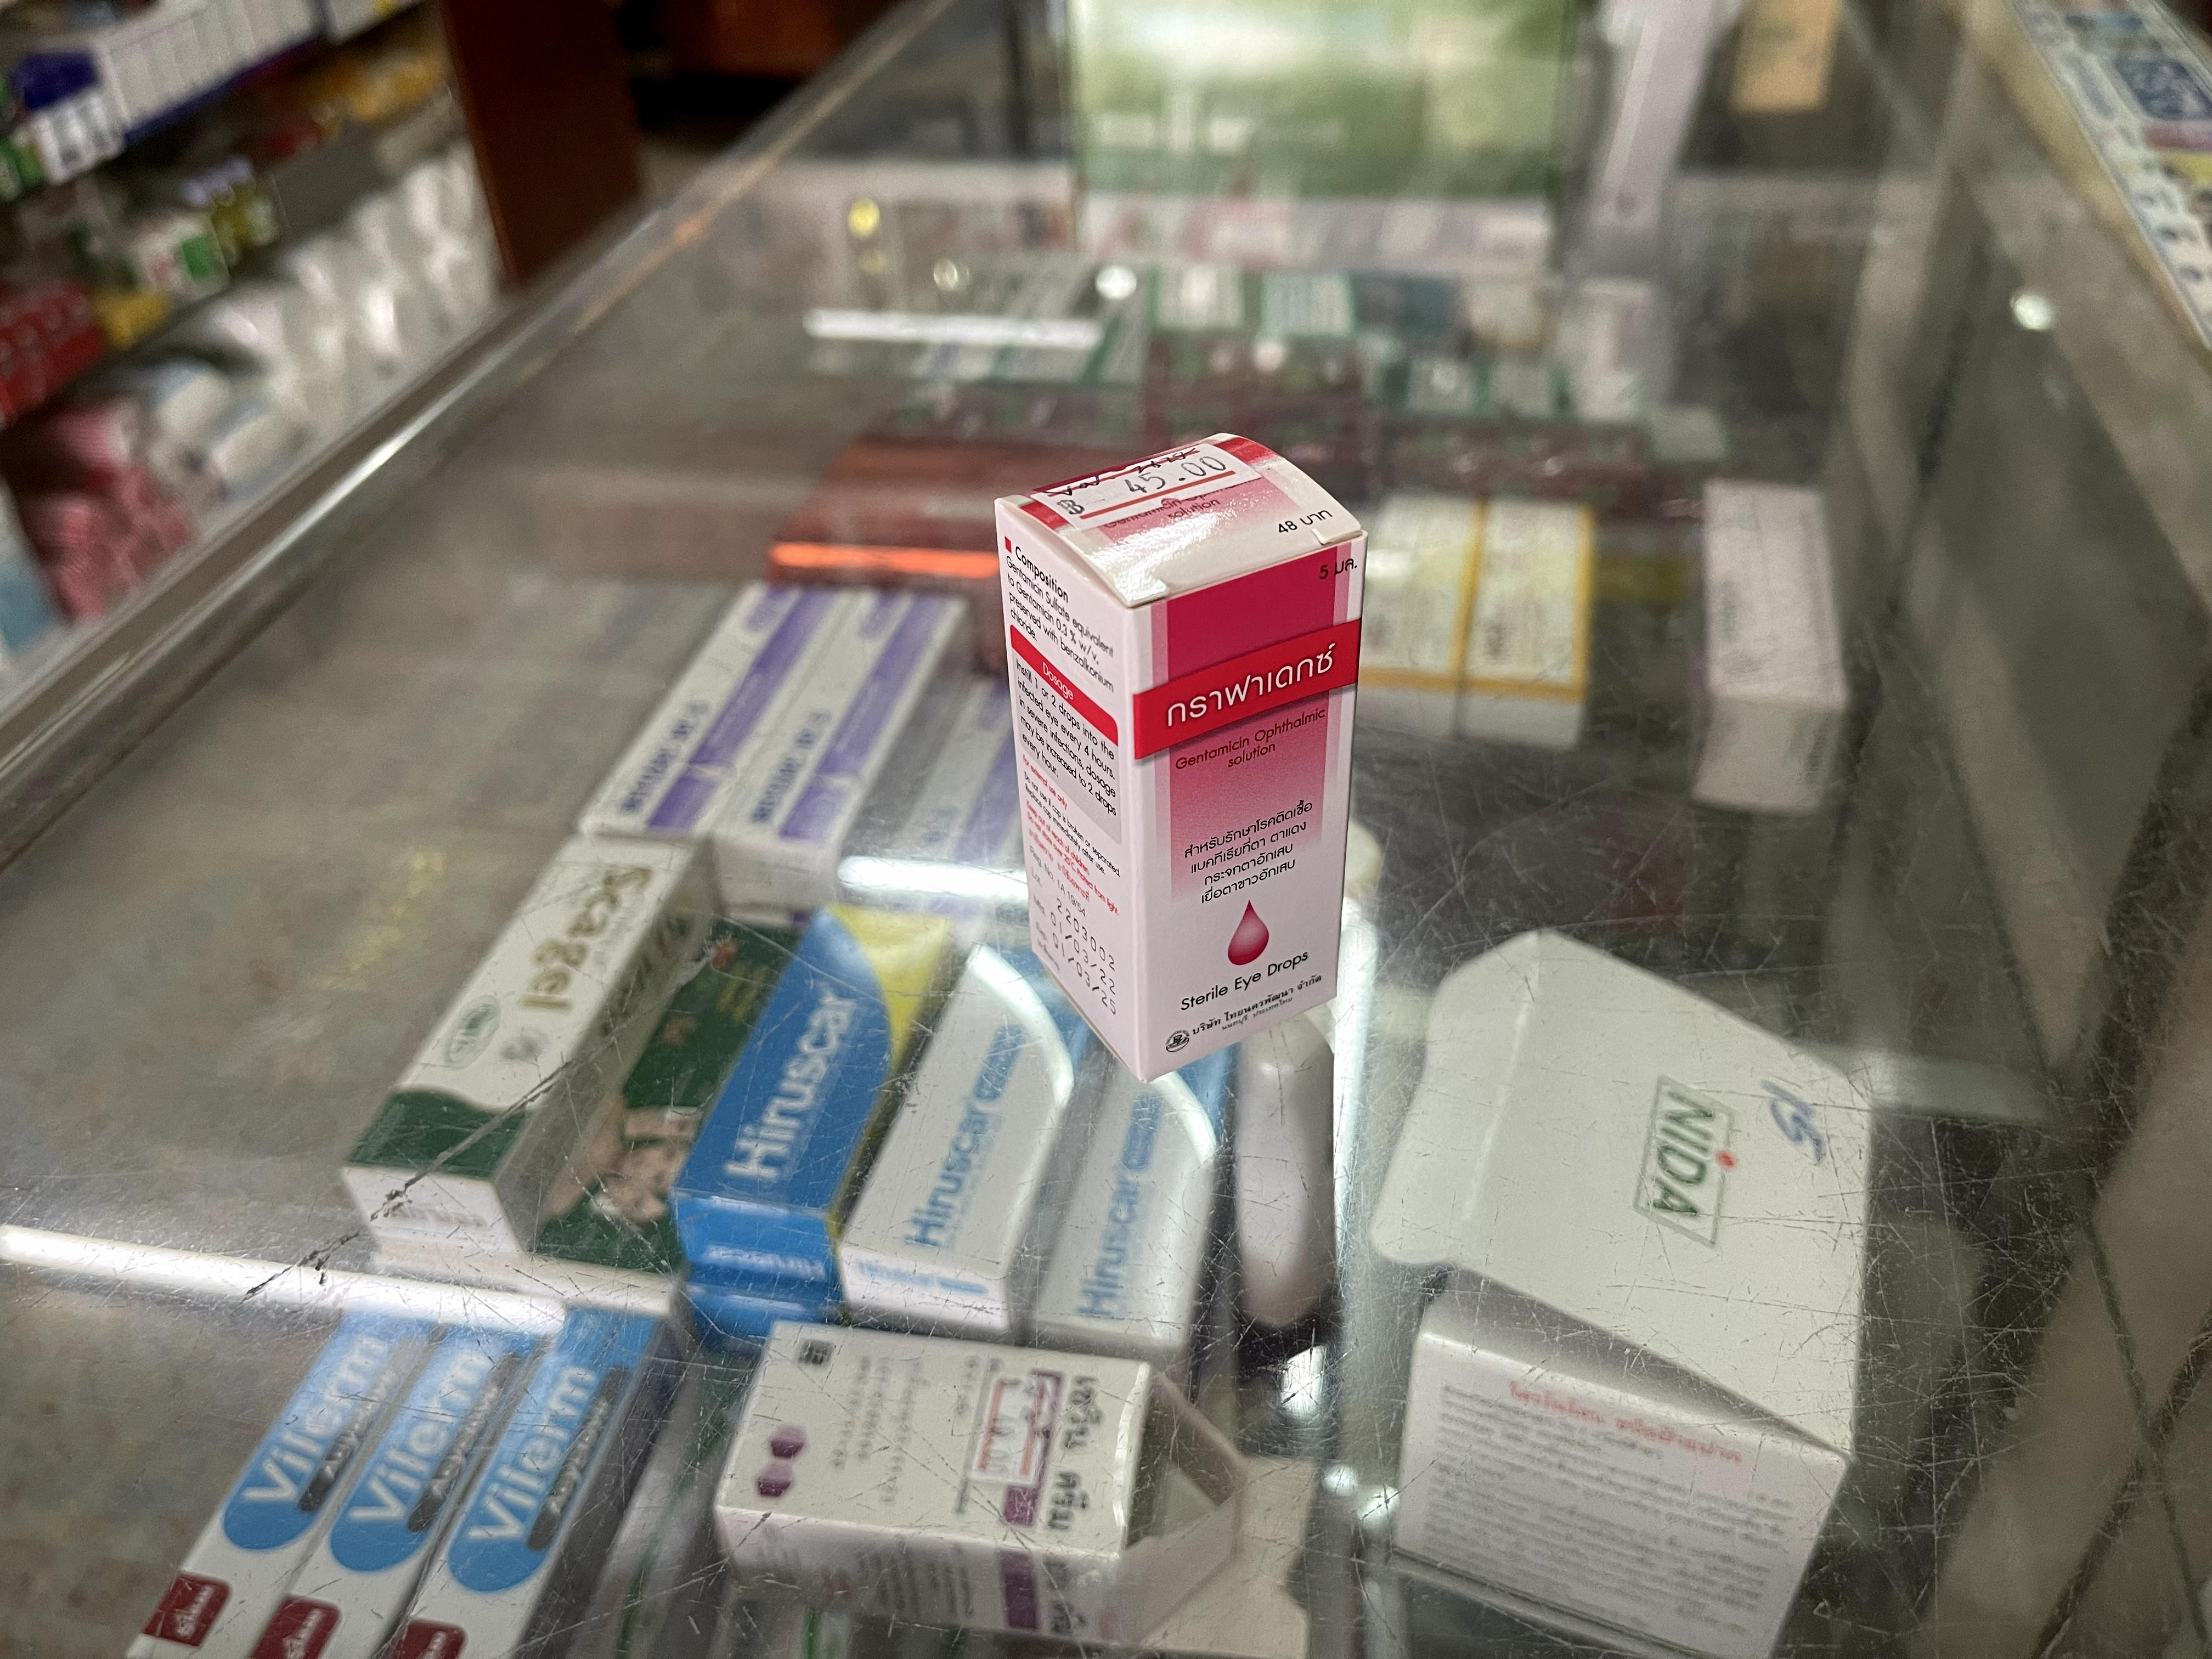Grafadex: (998, 434, 1366, 1091)
